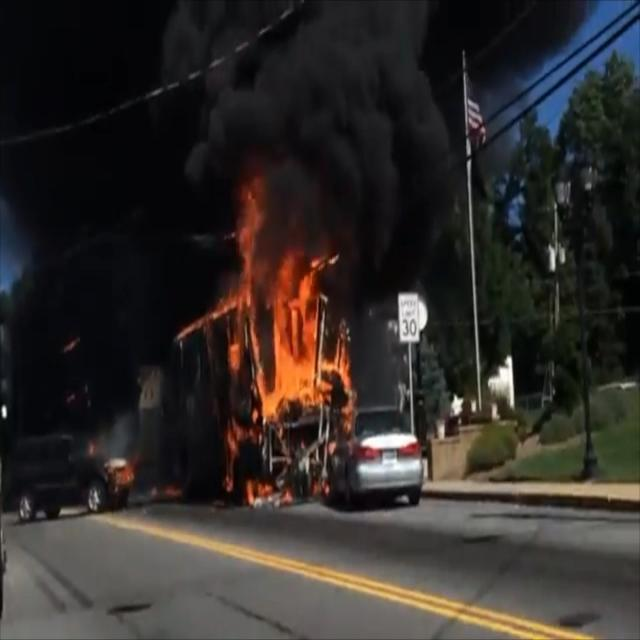fire: (212, 210, 346, 496)
